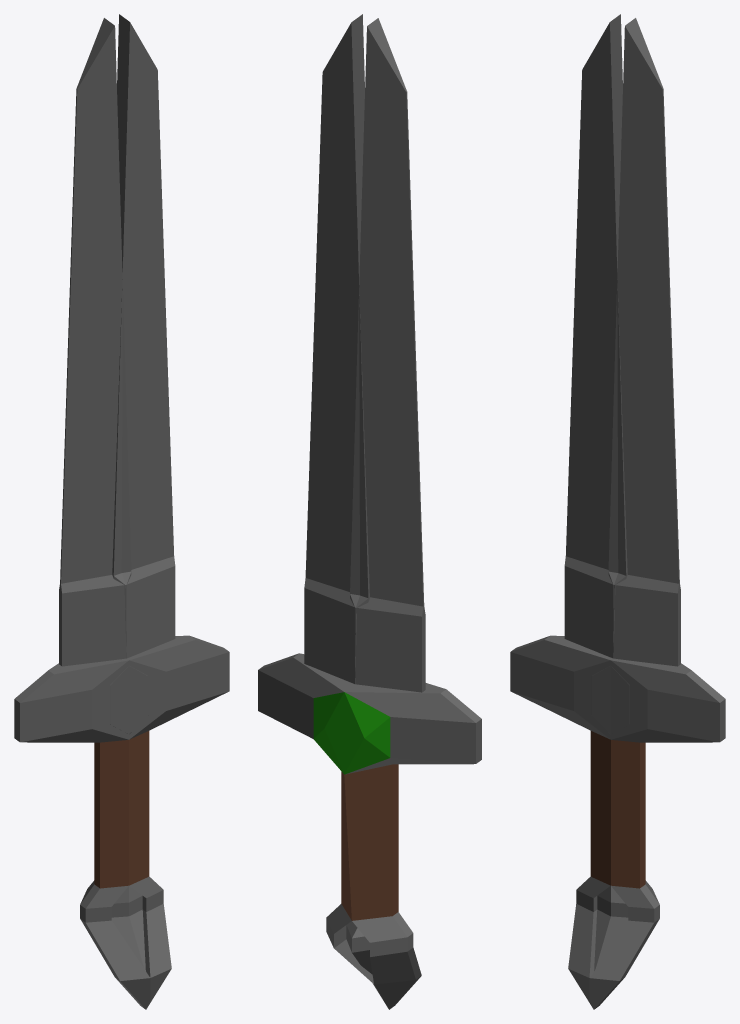
Rendered from sword_002.glb.
The picture shows the model from 3 angles, left to right: view 1: azimuth 30°, elevation 25°; view 2: azimuth 150°, elevation 25°; view 3: azimuth 330°, elevation 25°; orthographic projection. The views are drawn at different scales.
Parts seen in each view (by area): view 1: sword.002; view 2: sword.002; view 3: sword.002.
Part boxes in pixels (<box>): sword.002: <box>14,14,229,1009</box>; sword.002: <box>258,14,481,1009</box>; sword.002: <box>510,14,725,1009</box>.
Bounding box in the file's own units: 0.418 × 1.85 × 0.1834.
Materials: 1 (1 with a texture image).
